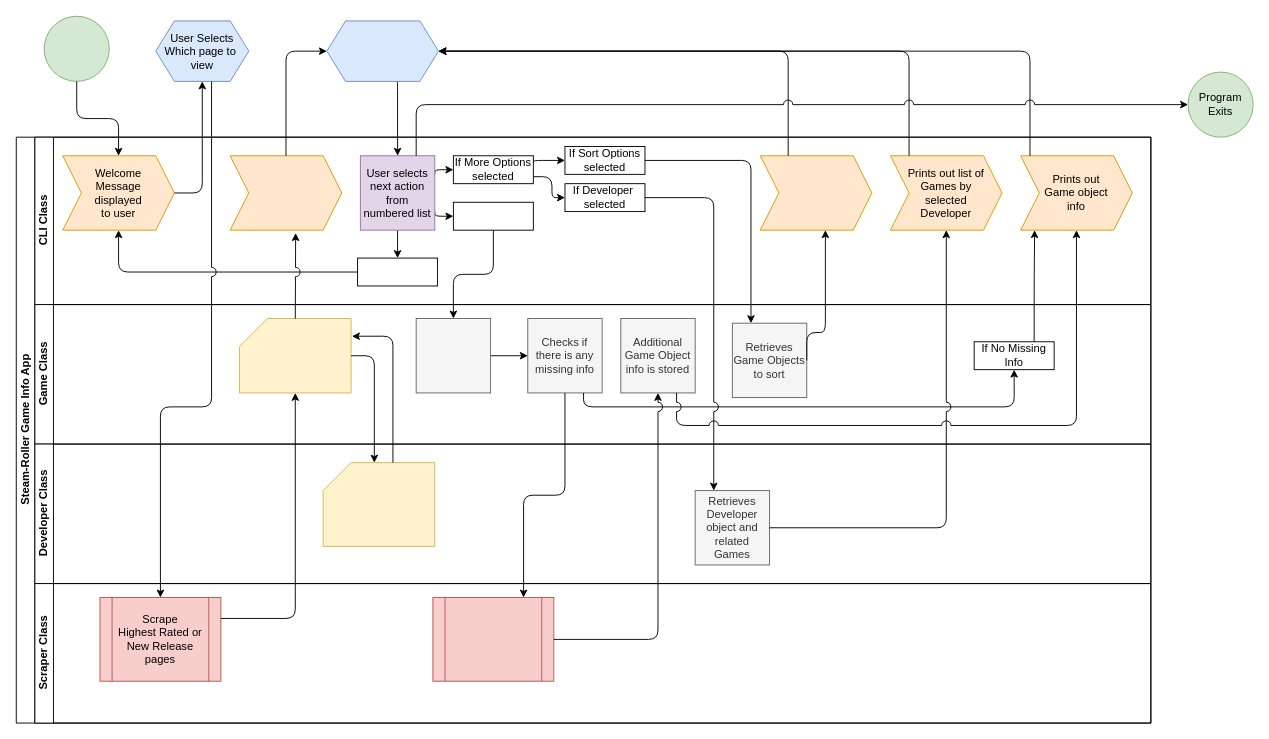
This 1269x739 diagram has some shape labels left out. The shapes that lost their labels are listed below. From the top down, each one's box as (x1, y1, x2, y2) in pixels, then its label:
(43, 15, 109, 81): User Starts App
(326, 20, 438, 81): User selects next action
(229, 155, 342, 230): Prints out sorted list of games
(759, 155, 872, 230): Prints out new sorted list of games
(452, 201, 533, 230): If Game object selected
(357, 257, 438, 286): If Start Over Selected
(239, 318, 351, 393): New game objects are created & stored, Developer assigned
(415, 318, 491, 393): Retrieve Game Object selected by user
(322, 462, 435, 546): Checks if Developer object created and adds to Game object
(432, 597, 554, 681): Scrape Game Info page and add missing info to Game object
